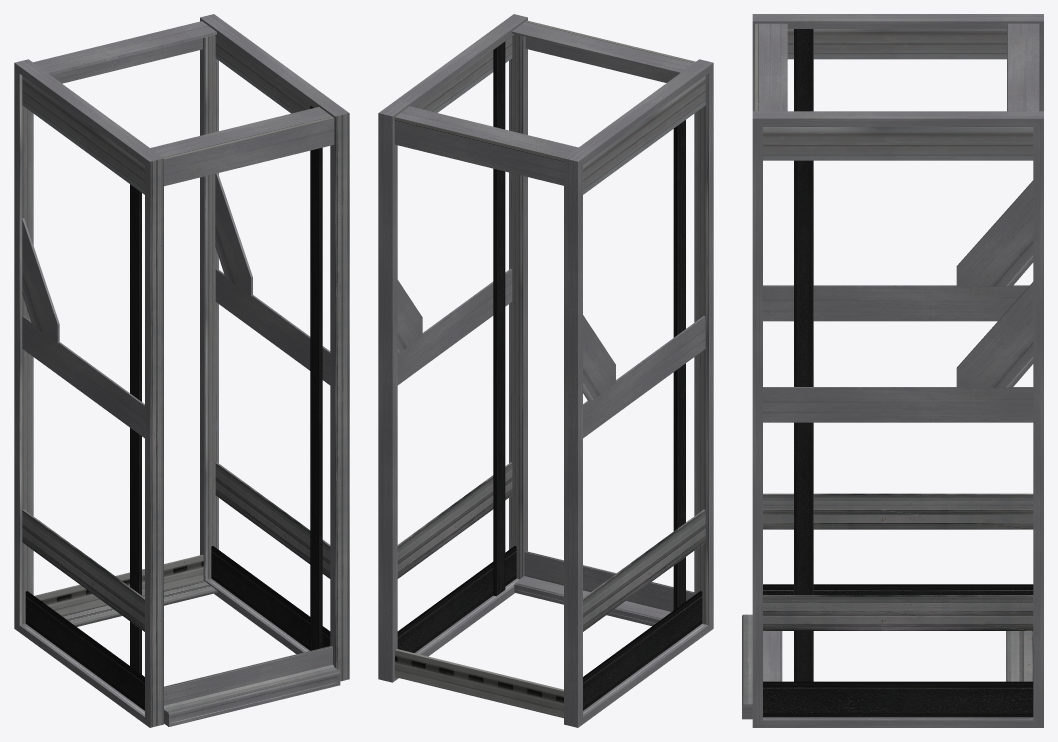
The model's file is server_rack-2.FBX.
3 views of the same model, side by side, from view 1: azimuth 30°, elevation 25°; view 2: azimuth 150°, elevation 25°; view 3: azimuth 270°, elevation 25° (orthographic). The views are drawn at different scales.
Parts seen in each view (by area): view 1: Loft01; view 2: Loft01; view 3: Loft01.
Part boxes in pixels (<box>): Loft01: <box>14,14,349,727</box>; Loft01: <box>378,14,713,727</box>; Loft01: <box>742,14,1043,727</box>.
Size of the model in its own units: 32.34 by 87.65 by 39.37.
